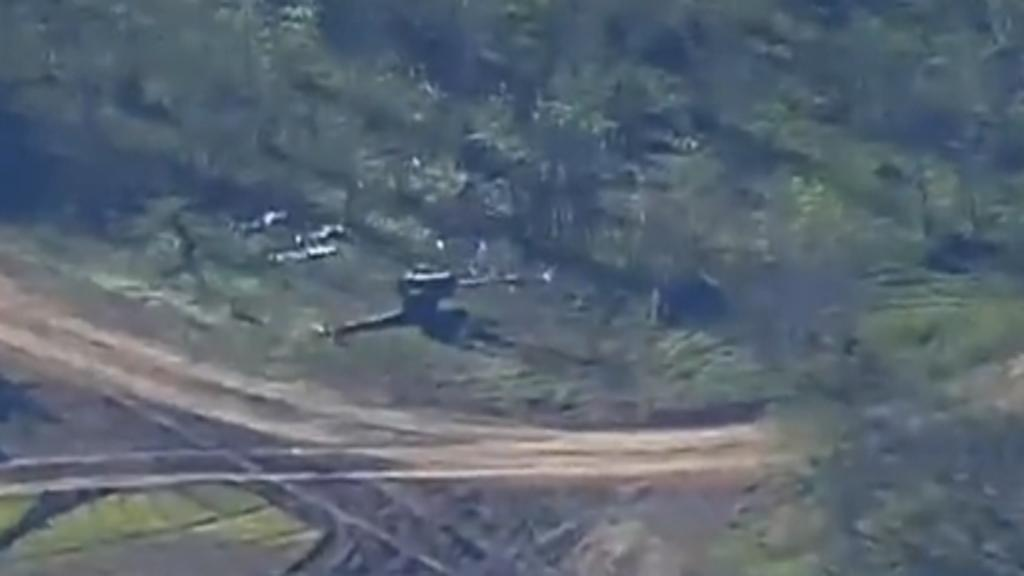ART: (314, 265, 552, 341)
